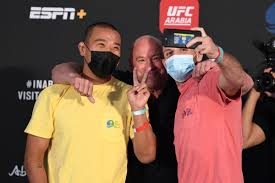mask: (88, 50, 120, 79), (164, 55, 196, 82)
